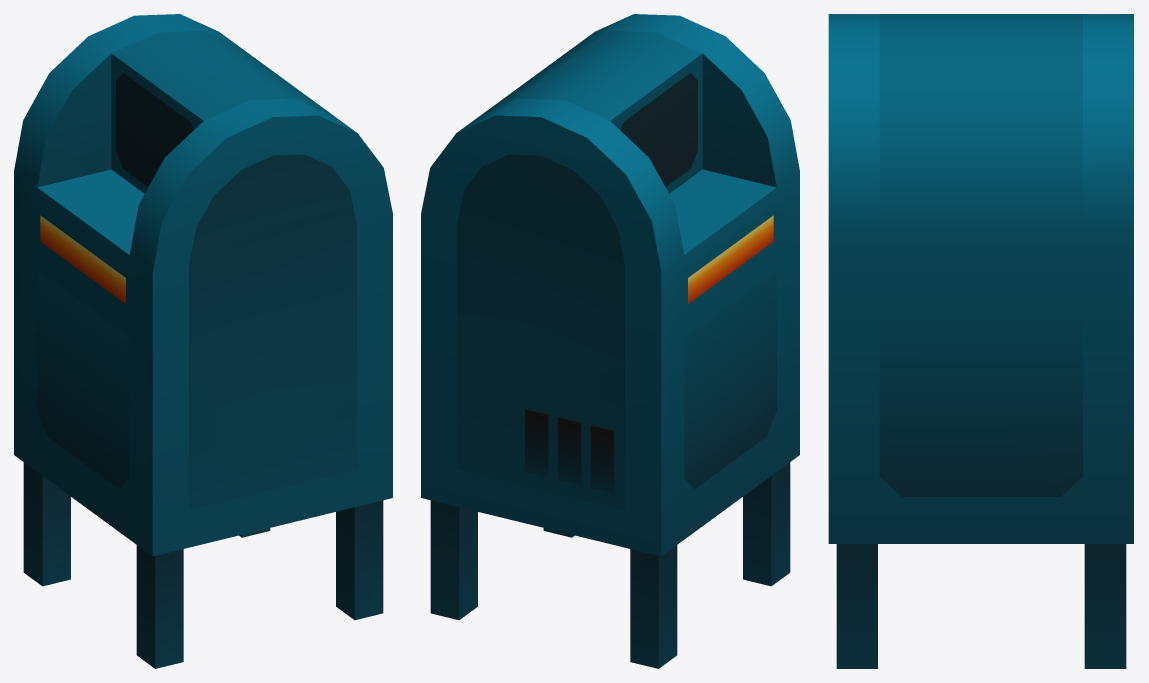
The model's file is Mailbox_2A.fbx.
3 renders of one model, left to right at view 1: azimuth 30°, elevation 25°; view 2: azimuth 150°, elevation 25°; view 3: azimuth 270°, elevation 25°, orthographic. The views are drawn at different scales.
Visible parts, largest first — view 1: Mailbox_2A; view 2: Mailbox_2A; view 3: Mailbox_2A.
Part boxes in pixels (bbox=[...]): Mailbox_2A: bbox=[14, 14, 392, 668]; Mailbox_2A: bbox=[421, 14, 799, 668]; Mailbox_2A: bbox=[828, 14, 1133, 668].
Bounding box in the file's own units: 0.8233 × 1.72 × 0.8248.
